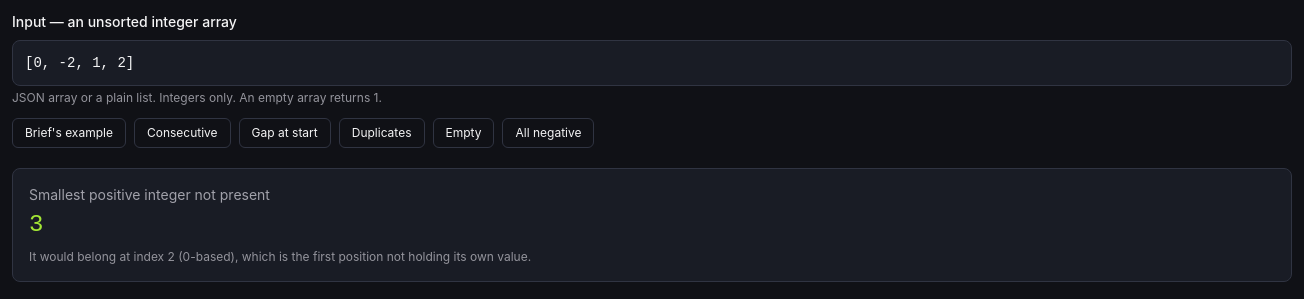
Test case: SmallestMissingPositiveDemo › handles an empty array
Click the button "Empty".
click(464, 133)  # box left=432, top=118, right=494, bottom=148
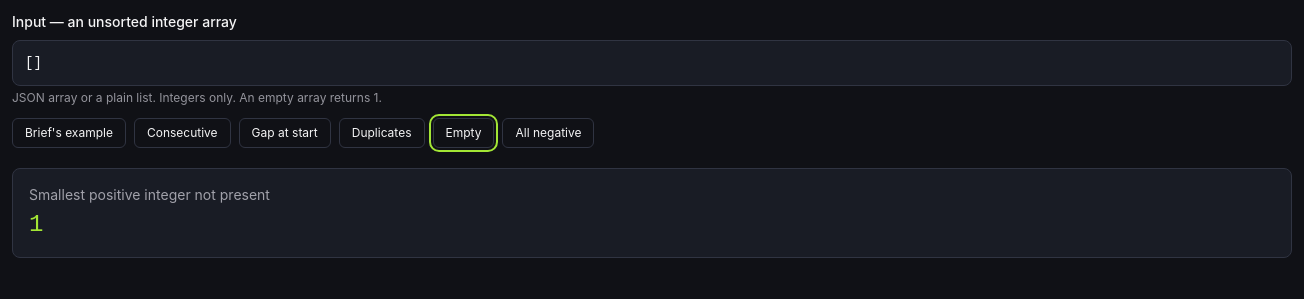
Expected: the message shows "1", left=29, top=211, right=43, bottom=238
